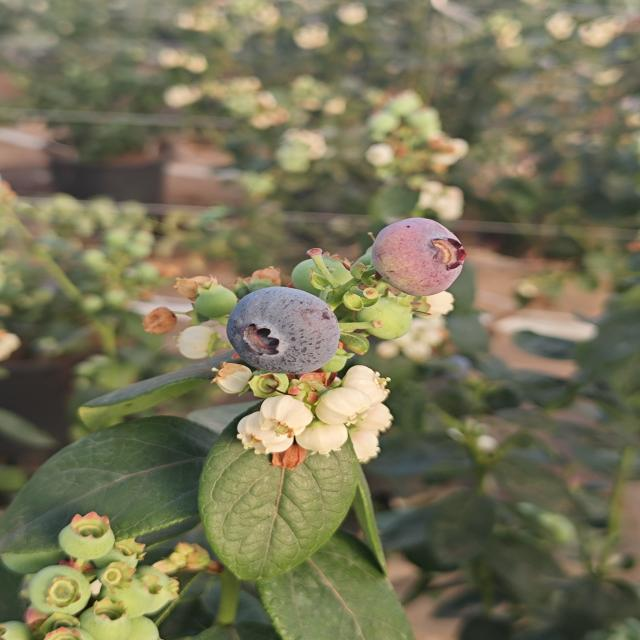ripe: (215, 290, 338, 370)
